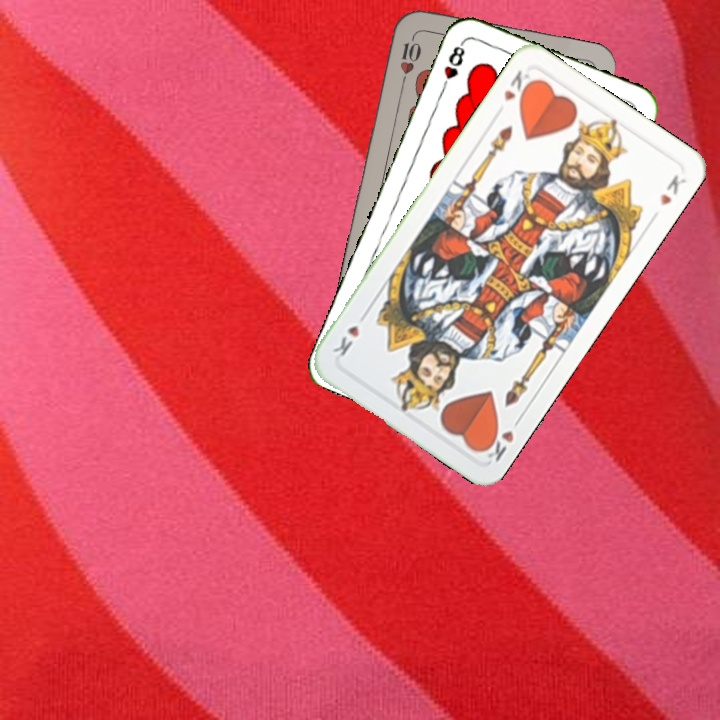H10: (395, 30, 422, 89)
H8: (437, 38, 468, 95)
HK: (477, 412, 525, 464), (500, 66, 536, 106)
